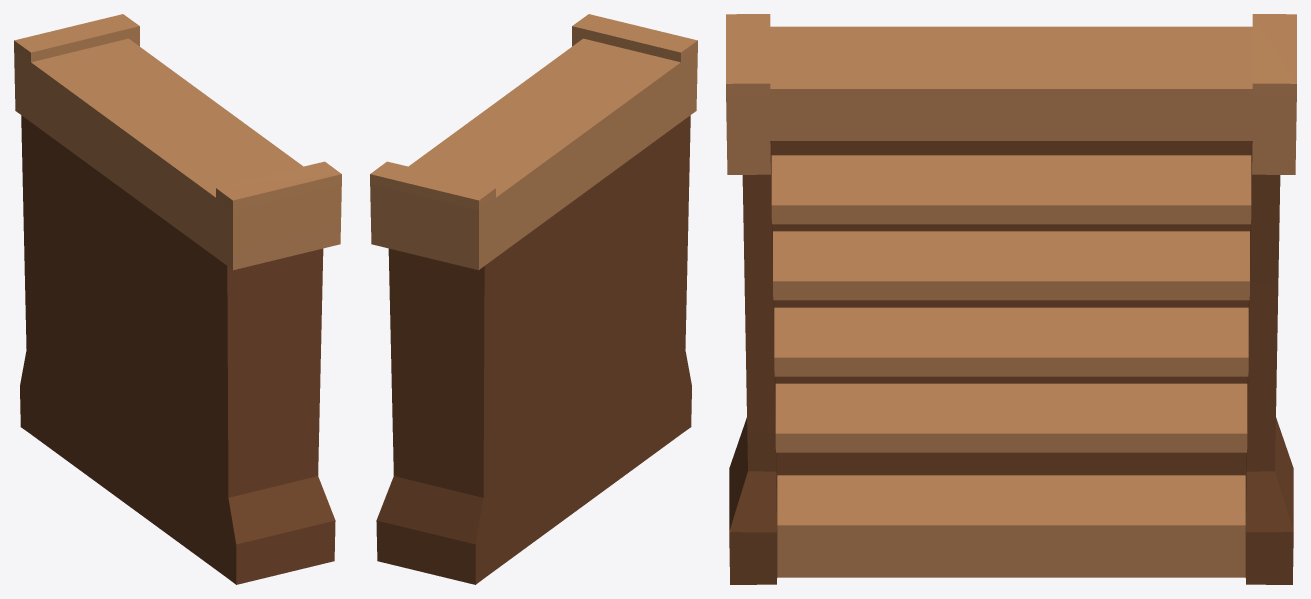
Rendered from BookCaseLarge.glb.
The picture shows the model from 3 angles, left to right: view 1: azimuth 30°, elevation 25°; view 2: azimuth 150°, elevation 25°; view 3: azimuth 270°, elevation 25°; orthographic projection. The views are drawn at different scales.
Bounding box in the file's own units: 0.4519 × 1.53 × 1.57.
